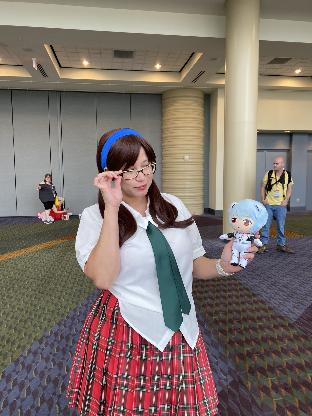rei-plush: (208, 188, 282, 278)
